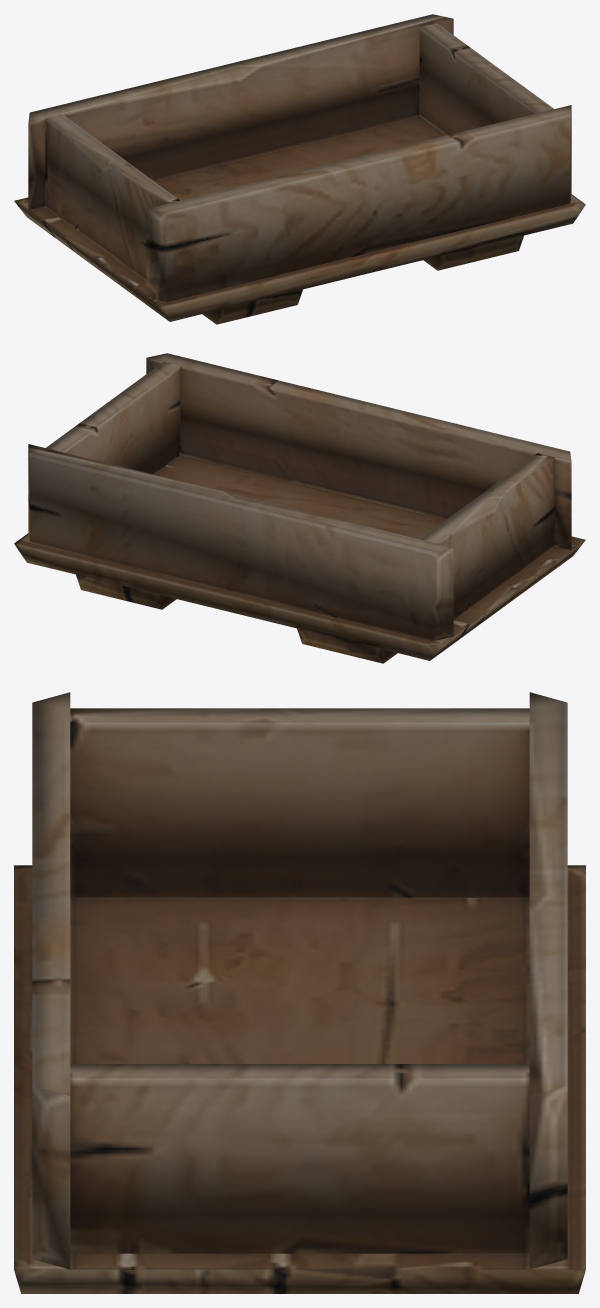
The model's file is Crate-05.fbx.
3 views of the same model, one above another, from view 1: azimuth 30°, elevation 25°; view 2: azimuth 150°, elevation 25°; view 3: azimuth 270°, elevation 25° (orthographic). The views are drawn at different scales.
Visible parts, largest first — view 1: Crate-05; view 2: Crate-05; view 3: Crate-05.
Part boxes in pixels (box(x1,y1,x2,y2)): Crate-05: box(14, 14, 585, 324); Crate-05: box(14, 353, 585, 663); Crate-05: box(14, 692, 585, 1293).
Size of the model in its own units: 0.375 by 0.105 by 0.2243.
Materials: 1 (1 with a texture image).
